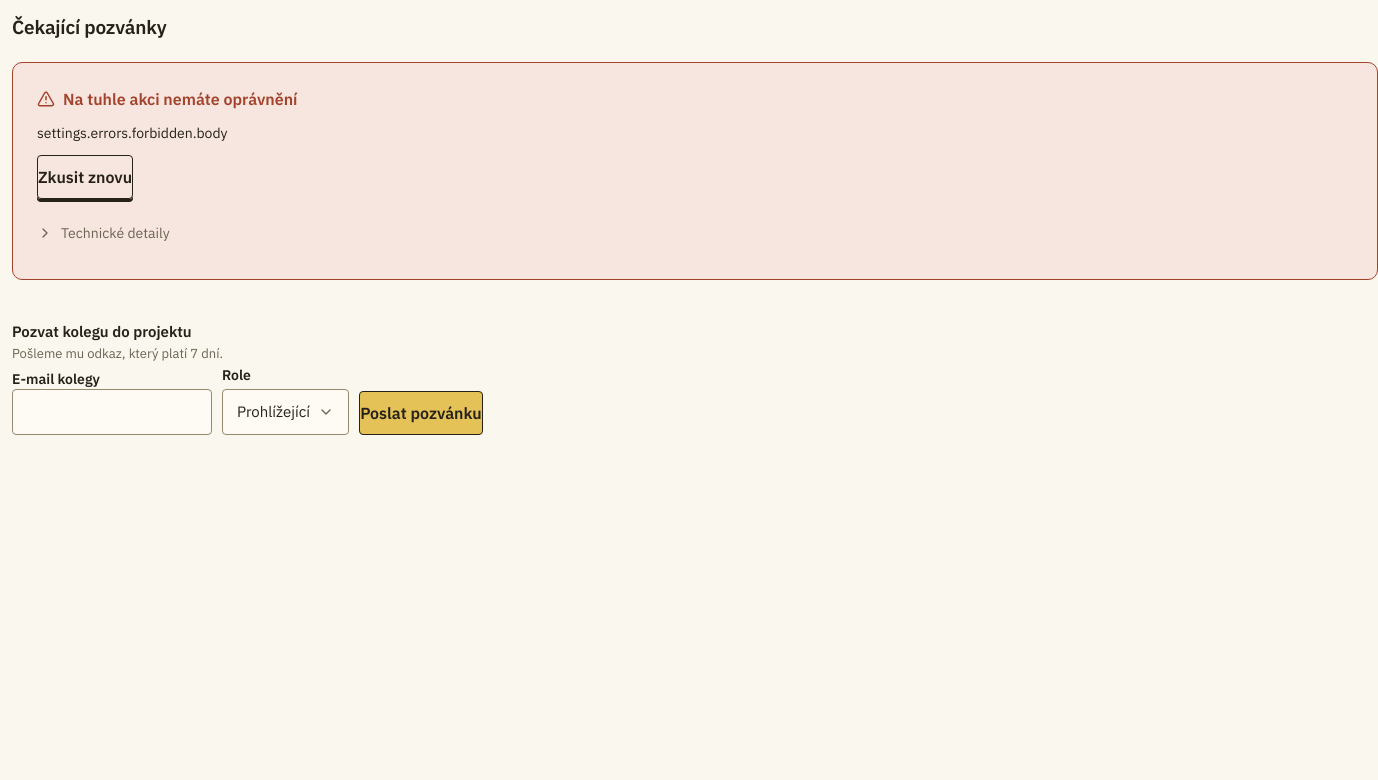
Scenario: InvitationsSectionView › u chyby ukáže blok s request_id
# Číslo požadavku je ve sbalených technických detailech, viz `ErrorBlock`.
Click the button "Technické detaily" at (103, 233), box x1=37 y1=211 x2=170 y2=255
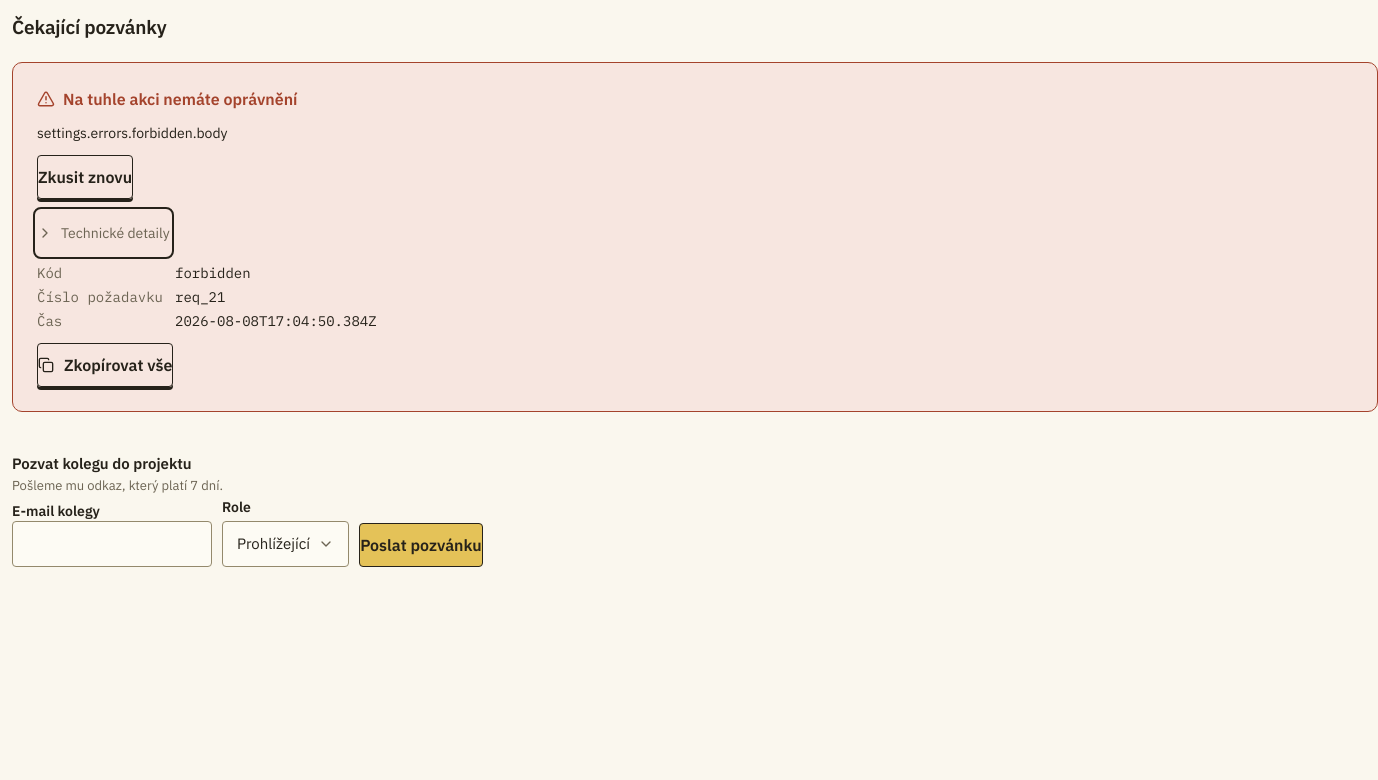
Expected: the text "req_21" is shown, x1=175 y1=288 x2=225 y2=306
